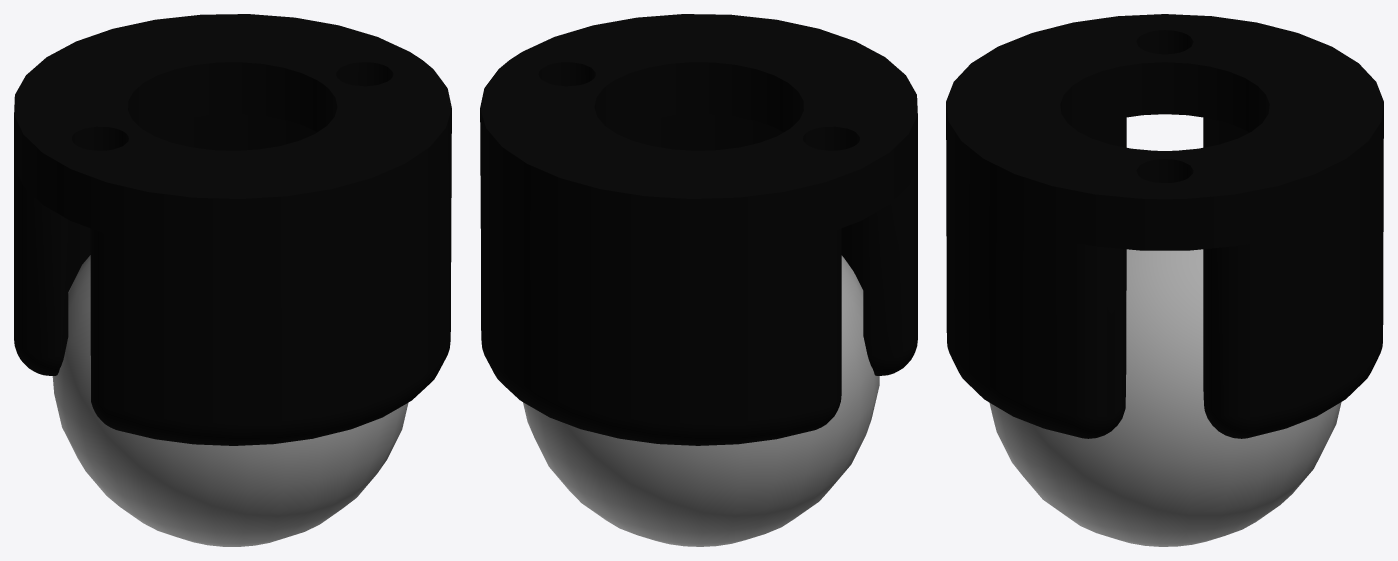
The model's file is bille_folle.glb.
3 renders of one model, left to right at view 1: azimuth 30°, elevation 25°; view 2: azimuth 150°, elevation 25°; view 3: azimuth 270°, elevation 25°, orthographic.
Visible parts, largest first — view 1: cage plastique; view 2: cage plastique; view 3: cage plastique.
Boxes of the visible parts, <box> form: cage plastique: <box>14,14,451,546</box>; cage plastique: <box>480,14,917,546</box>; cage plastique: <box>946,14,1383,546</box>.
Bounding box in the file's own units: 2.3e-05 × 2.45e-05 × 2.3e-05.
Materials: 1 (1 with a texture image).
